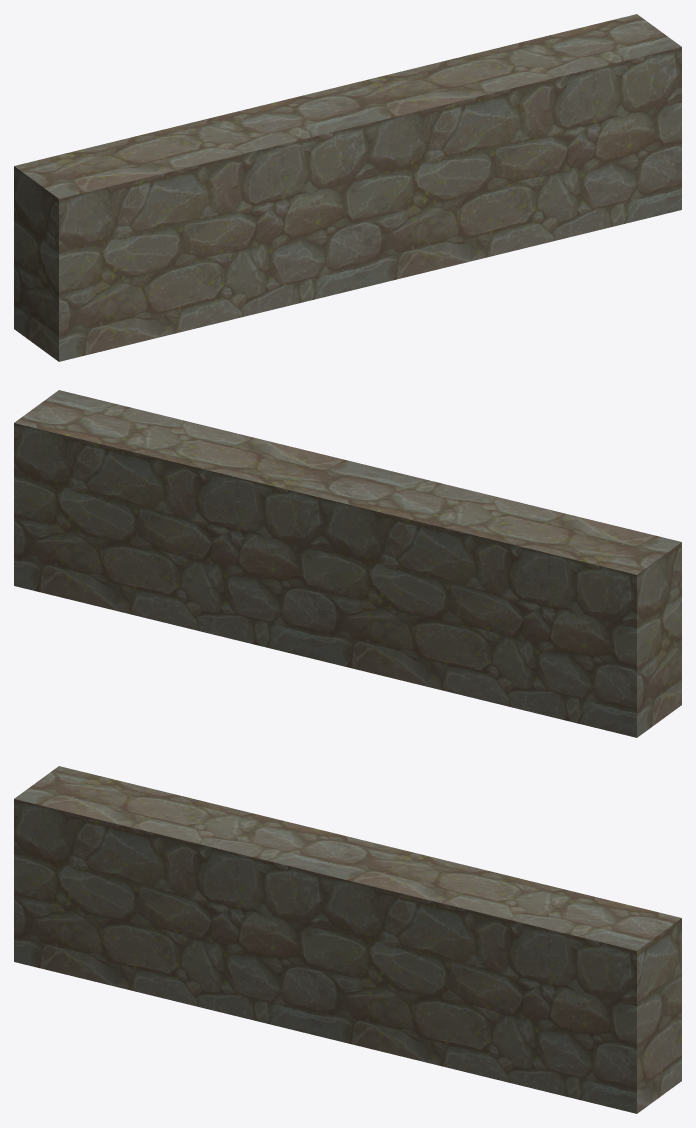
File: SM_FW01_Ruins_Int_Wall_A_4x1_01.fbx
The picture shows the model from 3 angles, top to bottom: view 1: azimuth 30°, elevation 25°; view 2: azimuth 150°, elevation 25°; view 3: azimuth 330°, elevation 25°; orthographic projection.
Parts seen in each view (by area): view 1: SM_FW01_Ruins_Int_Wall_A_4x1_01; view 2: SM_FW01_Ruins_Int_Wall_A_4x1_01; view 3: SM_FW01_Ruins_Int_Wall_A_4x1_01.
Part boxes in pixels (left/top/right/bottom): SM_FW01_Ruins_Int_Wall_A_4x1_01: left=14, top=14, right=681, bottom=361; SM_FW01_Ruins_Int_Wall_A_4x1_01: left=14, top=390, right=681, bottom=737; SM_FW01_Ruins_Int_Wall_A_4x1_01: left=14, top=766, right=681, bottom=1113.
Bounding box in the file's own units: 4 × 1 × 0.5.
